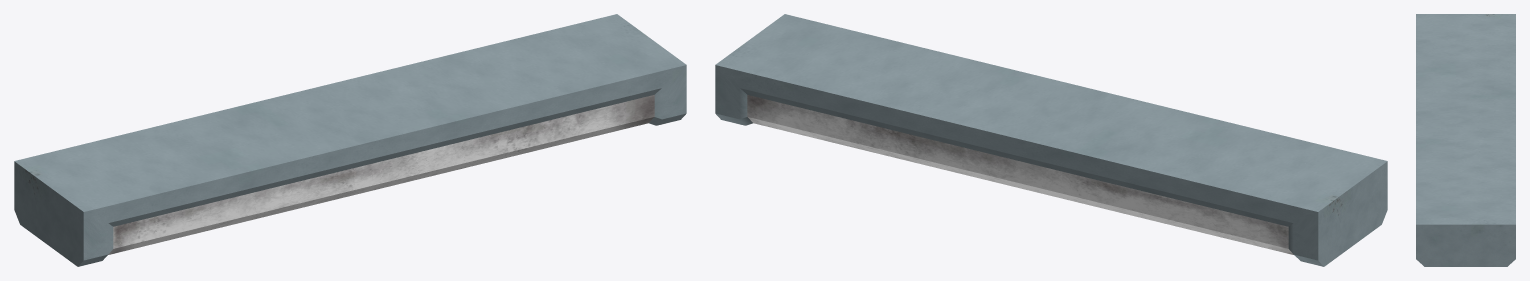
Rendered from ceiling_light_maybe 1.glb.
3 renders of one model, left to right at view 1: azimuth 30°, elevation 25°; view 2: azimuth 150°, elevation 25°; view 3: azimuth 270°, elevation 25°, orthographic. The views are drawn at different scales.
Visible parts, largest first — view 1: pCube1, pCube2; view 2: pCube1, pCube2; view 3: pCube1.
Boxes of the visible parts, x1,y1,x2,y2 form: pCube1: (14,14,686,266); pCube2: (108,95,654,254); pCube1: (715,14,1387,266); pCube2: (747,95,1293,254); pCube1: (1416,14,1515,266).
Bounding box in the file's own units: 2 × 0.1878 × 0.4.
2 materials, 2 textured.
